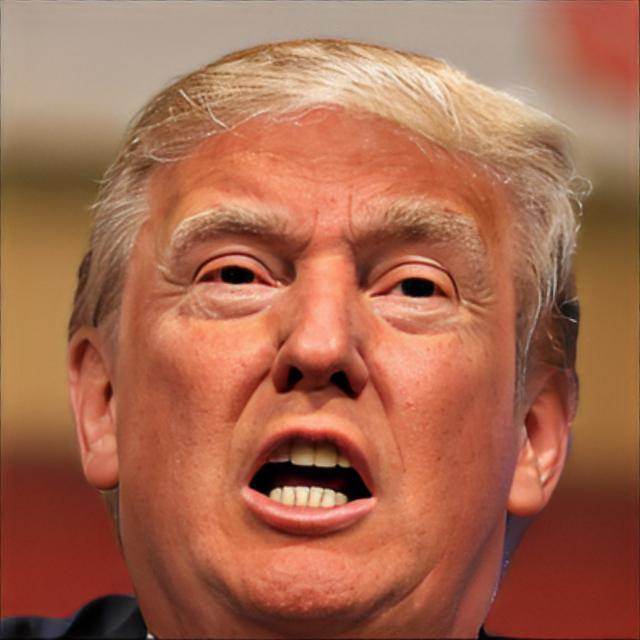anger: (107, 80, 523, 626)
